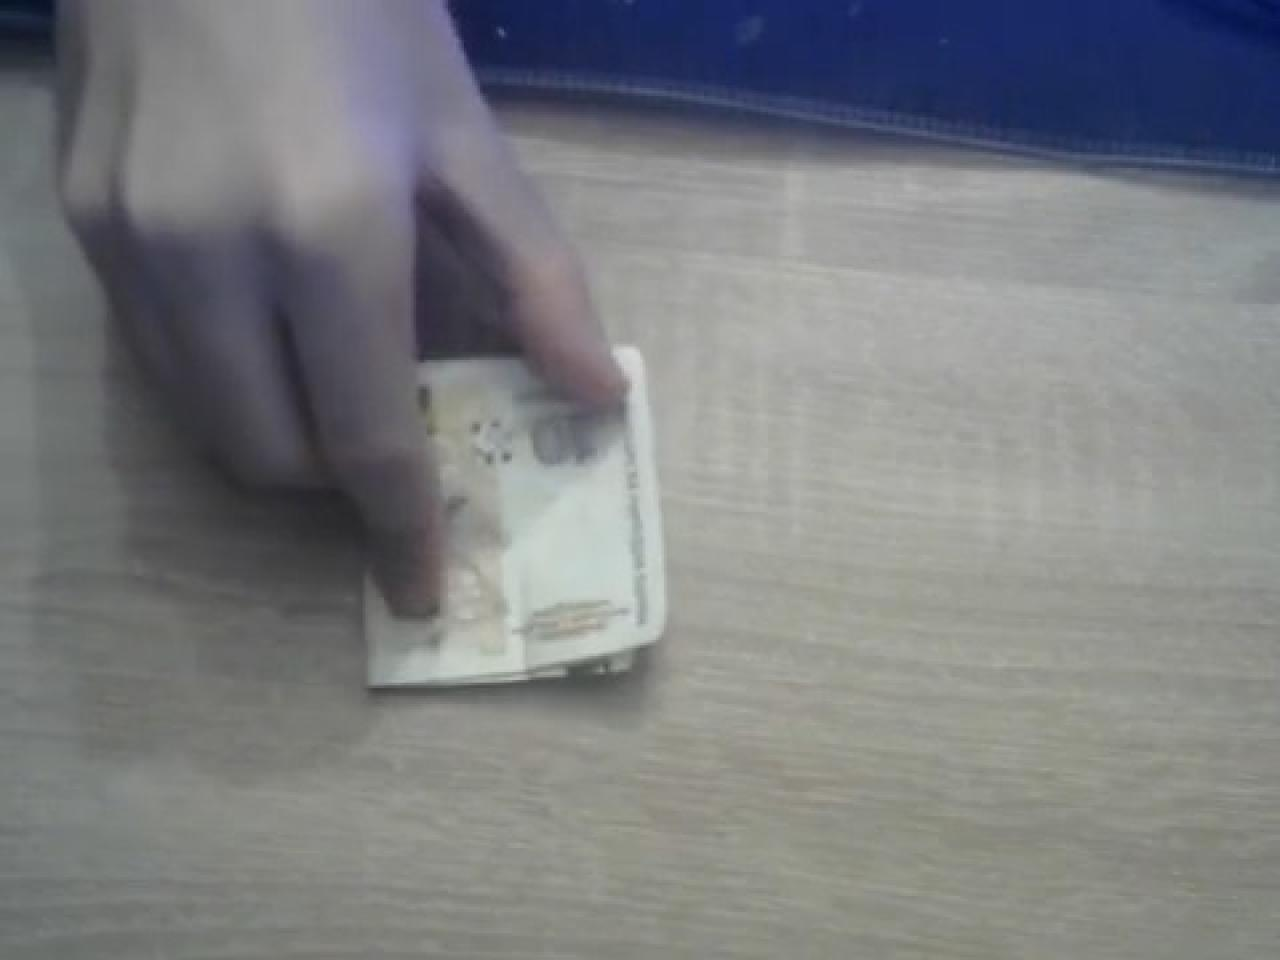10leva: (358, 339, 669, 693)
